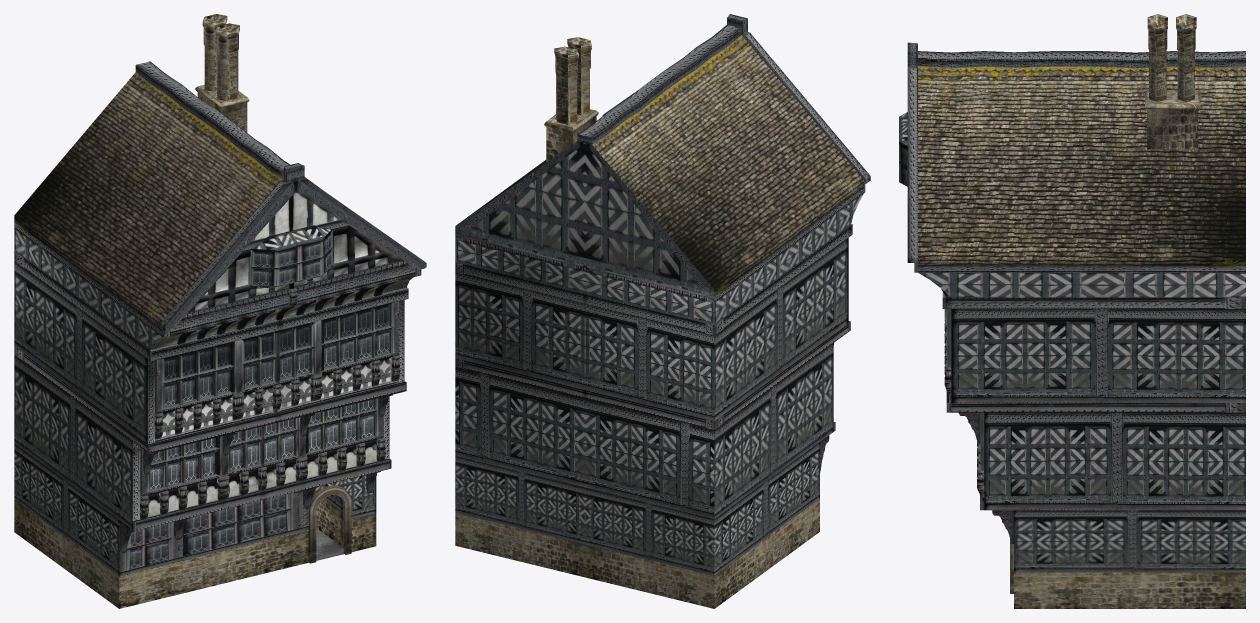
File: medhouse7.fbx
The picture shows the model from 3 angles, left to right: view 1: azimuth 30°, elevation 25°; view 2: azimuth 150°, elevation 25°; view 3: azimuth 270°, elevation 25°; orthographic projection. The views are drawn at different scales.
Visible parts, largest first — view 1: medhouse7, medhouse7_interior; view 2: medhouse7; view 3: medhouse7.
Boxes of the visible parts, x1,y1,x2,y2 form: medhouse7: (14,14,426,608); medhouse7_interior: (316,495,343,558); medhouse7: (455,14,870,608); medhouse7: (899,14,1245,608).
Size of the model in its own units: 959 by 1720 by 996.
